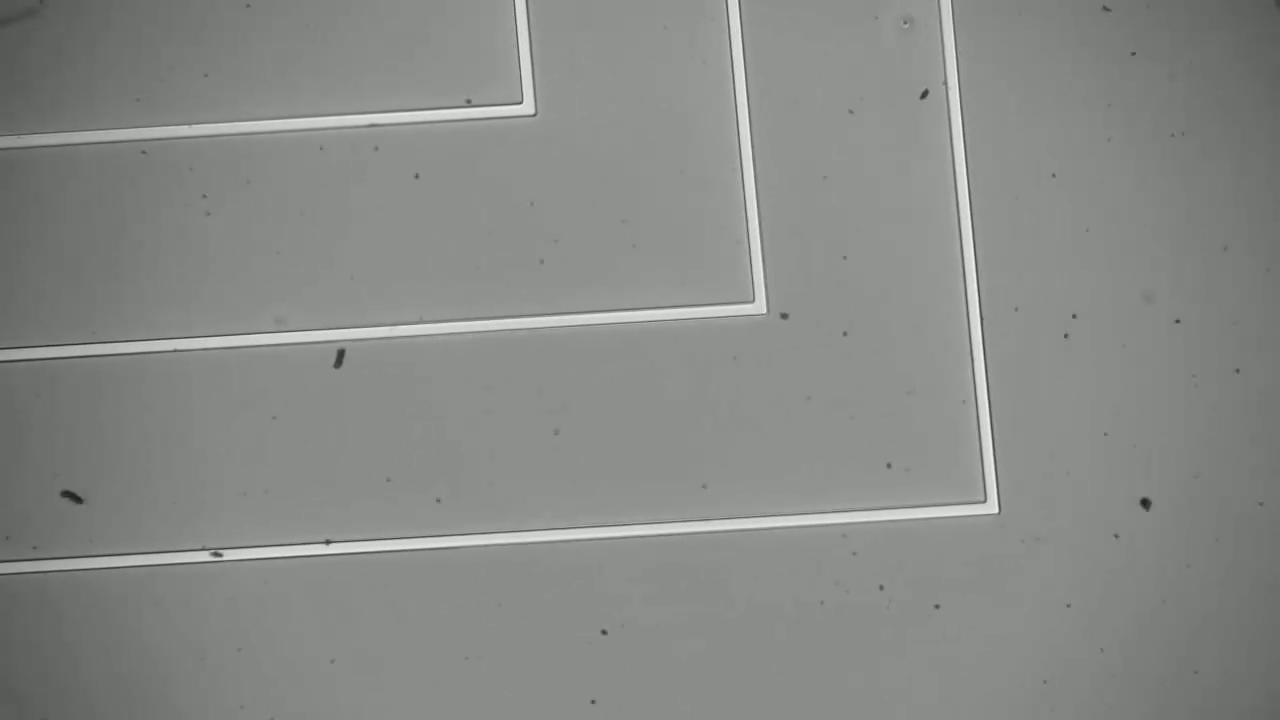stains_enbedded: (204, 540, 230, 569)
